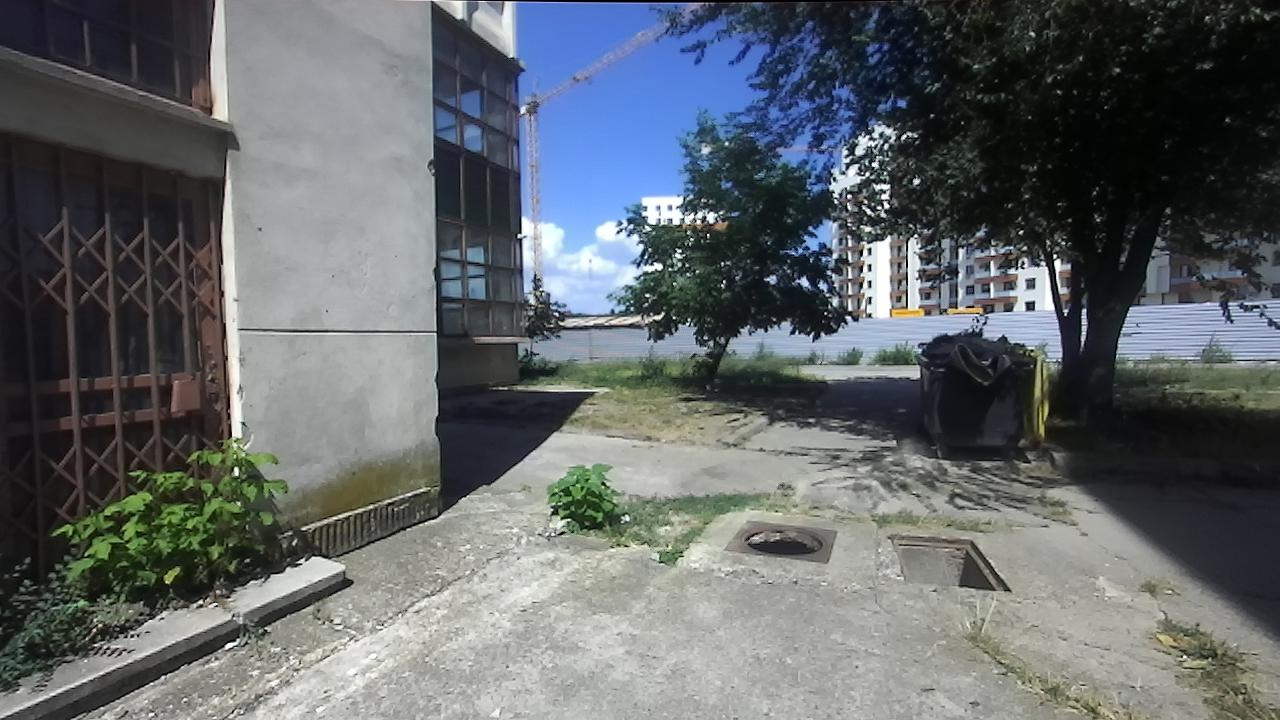drain: (886, 529, 1016, 596), (741, 519, 829, 560)
